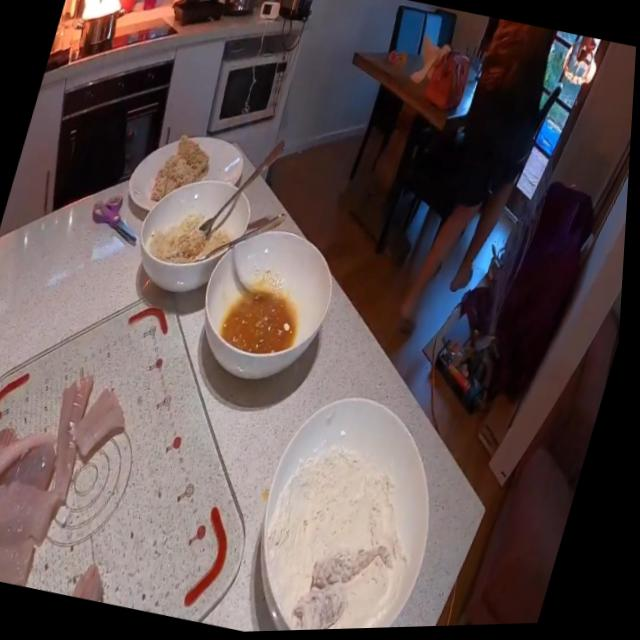fire: (555, 43, 607, 97), (67, 0, 139, 29)
